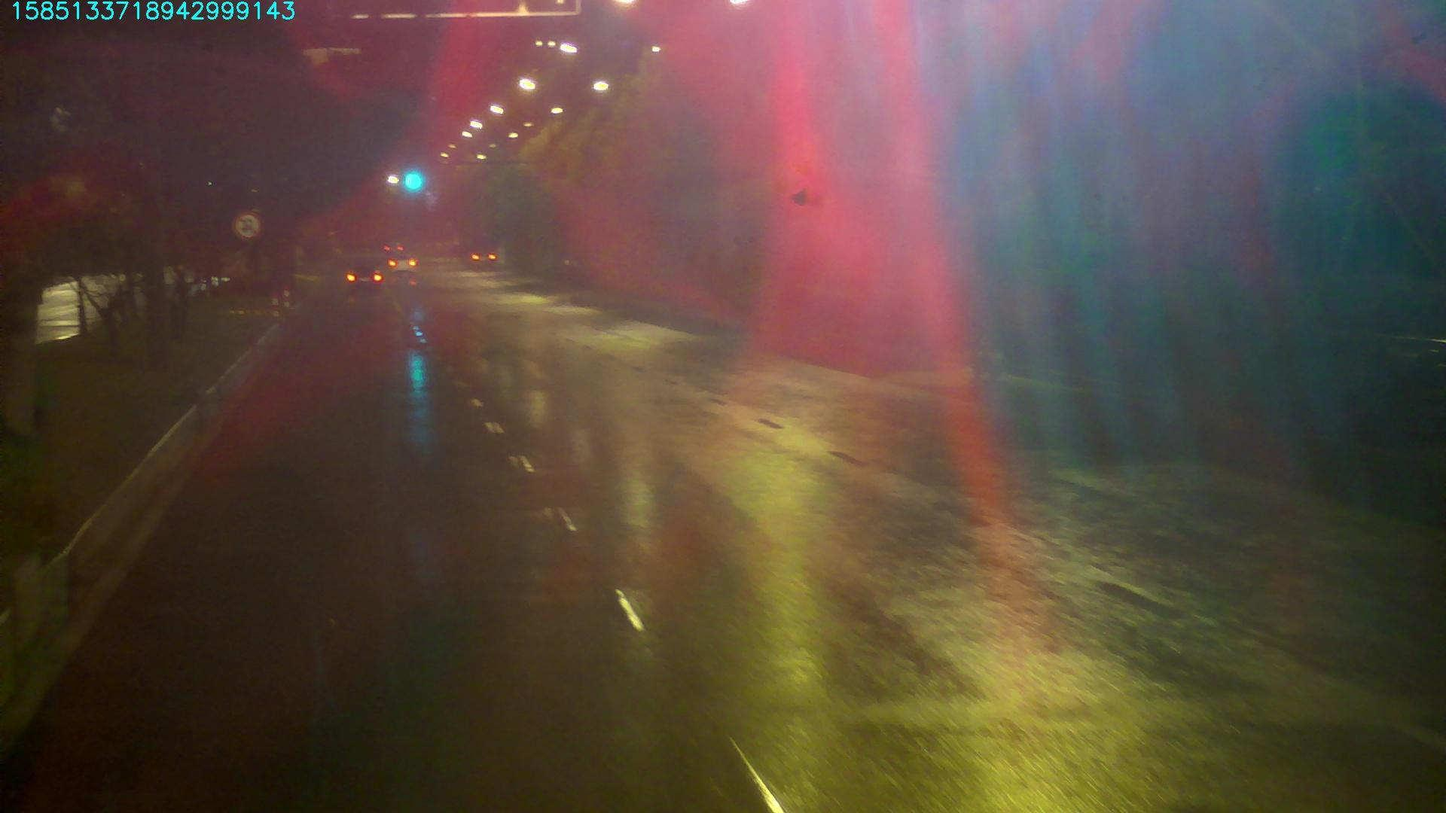green: (397, 165, 434, 200)
